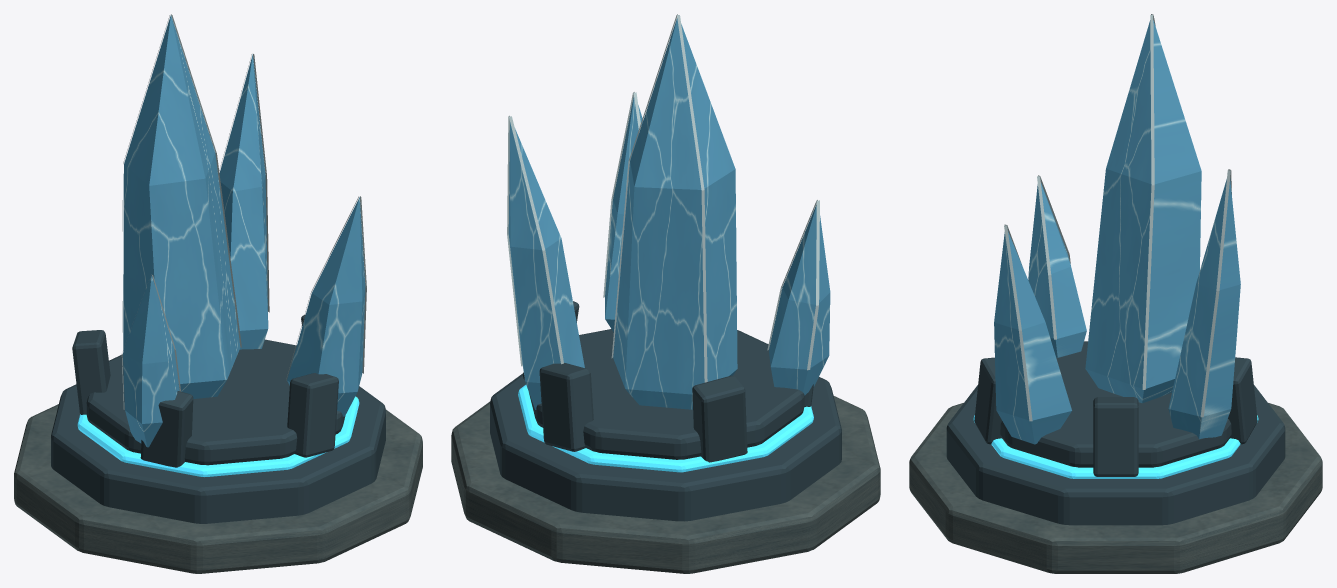
File: frost.glb
3 views of the same model, side by side, from view 1: azimuth 30°, elevation 25°; view 2: azimuth 150°, elevation 25°; view 3: azimuth 270°, elevation 25° (orthographic). The views are drawn at different scales.
Parts seen in each view (by area): view 1: main_fractured_ice, frozen_stone_foot, steel_refrigeration_base, dark_crystal_socket, rear_ice_shard, front_ice_shard, left_ice_shard, dark_steel_crystal_clamp_4, cyan_cooling_seal, dark_steel_crystal_clamp_3, dark_steel_crystal_clamp_2, main_fractured_ice_frost_ridges (+2 smaller); view 2: main_fractured_ice, frozen_stone_foot, steel_refrigeration_base, dark_crystal_socket, rear_ice_shard, left_ice_shard, dark_steel_crystal_clamp_1, dark_steel_crystal_clamp_2, cyan_cooling_seal, front_ice_shard, main_fractured_ice_frost_ridges, rear_ice_shard_frost_ridges (+2 smaller); view 3: main_fractured_ice, frozen_stone_foot, steel_refrigeration_base, rear_ice_shard, front_ice_shard, dark_crystal_socket, left_ice_shard, dark_steel_crystal_clamp_0, cyan_cooling_seal, dark_steel_crystal_clamp_1, dark_steel_crystal_clamp_4, main_fractured_ice_frost_ridges (+3 smaller).
Boxes of the visible parts, <box> form: main_fractured_ice: <box>123,15,240,398</box>; frozen_stone_foot: <box>14,404,422,573</box>; steel_refrigeration_base: <box>51,384,385,523</box>; dark_crystal_socket: <box>86,339,345,465</box>; rear_ice_shard: <box>219,54,268,349</box>; front_ice_shard: <box>287,197,365,416</box>; left_ice_shard: <box>123,275,179,447</box>; dark_steel_crystal_clamp_4: <box>287,373,338,457</box>; cyan_cooling_seal: <box>77,396,359,476</box>; dark_steel_crystal_clamp_3: <box>140,391,193,467</box>; dark_steel_crystal_clamp_2: <box>72,330,110,414</box>; main_fractured_ice_frost_ridges: <box>122,14,241,347</box>; main_fractured_ice: <box>613,18,737,409</box>; frozen_stone_foot: <box>451,396,880,573</box>; steel_refrigeration_base: <box>490,373,841,521</box>; dark_crystal_socket: <box>529,329,804,459</box>; rear_ice_shard: <box>508,122,584,409</box>; left_ice_shard: <box>769,204,830,395</box>; dark_steel_crystal_clamp_1: <box>539,363,593,451</box>; dark_steel_crystal_clamp_2: <box>692,375,747,462</box>; cyan_cooling_seal: <box>518,385,813,472</box>; front_ice_shard: <box>605,96,643,332</box>; main_fractured_ice_frost_ridges: <box>611,14,707,382</box>; rear_ice_shard_frost_ridges: <box>507,115,563,366</box>; main_fractured_ice: <box>1085,20,1201,403</box>; frozen_stone_foot: <box>909,403,1322,573</box>; steel_refrigeration_base: <box>946,385,1285,525</box>; rear_ice_shard: <box>1168,178,1240,439</box>; front_ice_shard: <box>994,231,1071,444</box>; dark_crystal_socket: <box>1000,341,1231,467</box>; left_ice_shard: <box>1028,183,1086,357</box>; dark_steel_crystal_clamp_0: <box>1093,397,1138,476</box>; cyan_cooling_seal: <box>973,415,1258,478</box>; dark_steel_crystal_clamp_1: <box>1228,357,1257,444</box>; dark_steel_crystal_clamp_4: <box>974,357,1001,444</box>; main_fractured_ice_frost_ridges: <box>1142,14,1155,389</box>.
Size of the model in its own units: 0.7418 by 0.96 by 0.7757.
5 materials, 2 textured.
